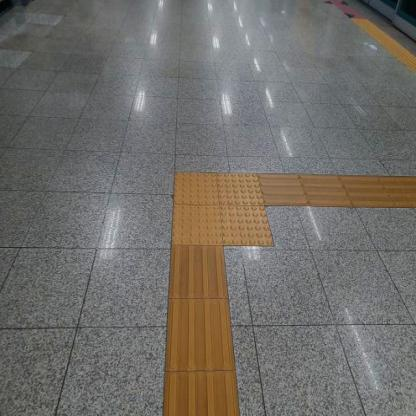podotacti: (131, 131, 306, 292), (163, 247, 237, 416), (258, 174, 415, 212)
